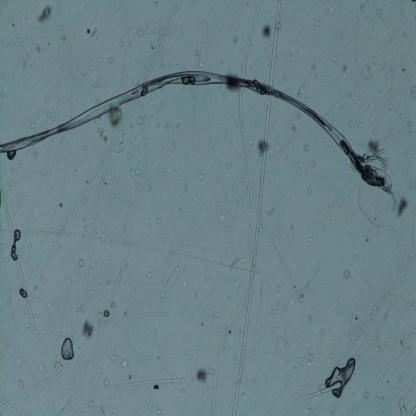Air bubble: (324, 358, 356, 396), (8, 229, 22, 262), (61, 338, 76, 360), (20, 288, 27, 300)
Background material: (112, 131, 131, 162), (396, 395, 416, 414), (98, 126, 114, 148), (230, 255, 250, 271), (255, 141, 271, 159), (110, 108, 125, 127), (38, 5, 52, 24), (195, 367, 209, 386), (397, 338, 413, 354), (82, 320, 96, 338), (397, 197, 408, 215), (83, 23, 97, 36), (374, 389, 386, 404), (27, 318, 39, 333), (340, 59, 350, 77), (193, 283, 202, 299), (263, 26, 273, 40), (376, 371, 384, 388), (54, 358, 62, 375), (371, 141, 381, 154), (342, 267, 352, 280), (145, 266, 153, 281), (301, 144, 311, 156), (136, 116, 146, 128), (305, 353, 313, 367), (266, 306, 276, 317), (102, 308, 112, 319), (310, 161, 320, 172), (362, 388, 372, 398), (121, 360, 130, 371), (330, 51, 337, 65), (164, 121, 172, 132), (180, 280, 188, 291), (308, 232, 315, 244), (29, 119, 36, 131), (110, 300, 116, 312), (111, 350, 118, 360), (104, 378, 111, 388), (197, 172, 204, 181), (409, 83, 416, 92), (220, 214, 227, 223), (232, 34, 238, 44), (19, 378, 24, 390), (308, 186, 314, 196), (155, 217, 163, 224), (271, 208, 276, 218), (107, 57, 114, 64), (308, 314, 314, 322), (406, 120, 412, 128), (348, 120, 354, 128), (160, 291, 166, 297), (214, 314, 221, 319), (176, 262, 179, 273), (162, 256, 166, 264), (358, 122, 362, 129), (164, 278, 167, 284)
Cotton: (0, 68, 400, 200)
Glass filter fibre: (1, 101, 140, 358), (226, 94, 274, 416), (247, 200, 305, 300), (52, 376, 186, 414), (135, 0, 184, 85), (363, 63, 396, 162), (0, 360, 69, 404), (128, 338, 232, 360), (240, 2, 269, 80), (81, 210, 104, 300), (3, 0, 31, 68), (91, 310, 169, 334), (69, 42, 103, 88), (52, 1, 64, 130), (194, 133, 224, 171), (352, 2, 363, 101), (270, 0, 282, 89), (296, 381, 342, 402), (120, 42, 135, 90), (196, 18, 210, 68), (346, 305, 358, 361), (272, 324, 289, 356), (120, 0, 132, 42), (203, 254, 213, 288), (6, 150, 18, 160)
